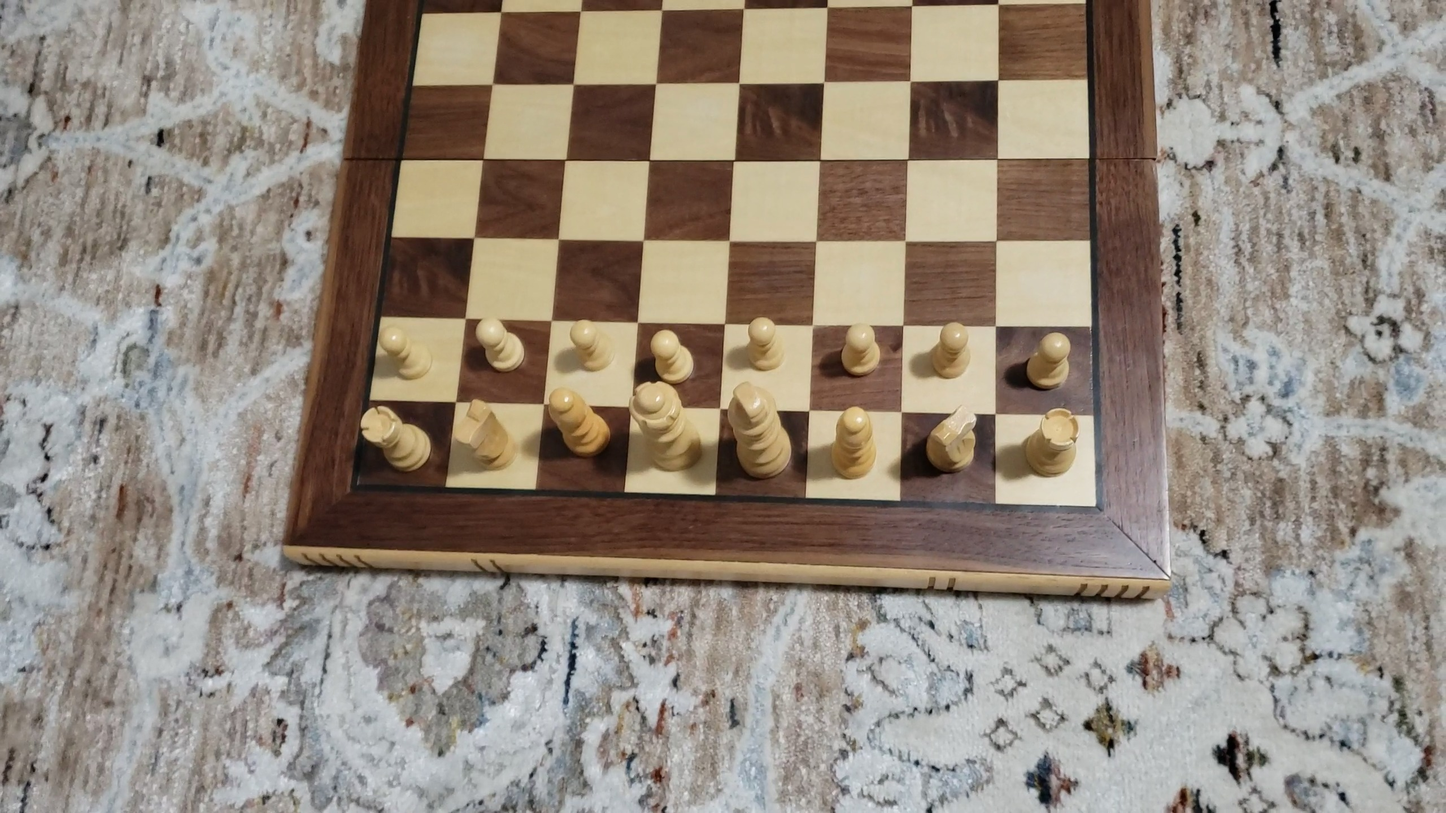white-bishop: (542, 385, 612, 461), (829, 402, 882, 483)
white-king: (720, 378, 797, 486)
white-knight: (454, 395, 519, 475), (922, 405, 981, 478)
white-pawn: (374, 321, 437, 384), (1020, 327, 1077, 394), (472, 313, 528, 374), (925, 317, 975, 383), (836, 320, 885, 381), (741, 312, 787, 375), (648, 326, 696, 386), (565, 316, 614, 374)
white-queen: (627, 380, 706, 475)
white-rook: (359, 402, 433, 475), (1020, 403, 1084, 482)
